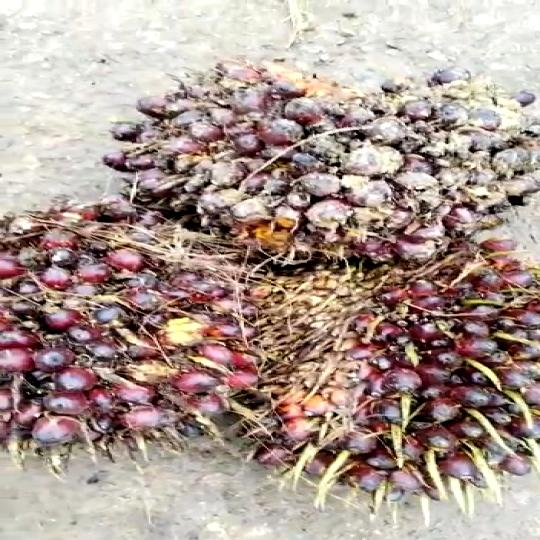kurang masak: (102, 56, 540, 266), (209, 246, 540, 510), (0, 191, 262, 453)
